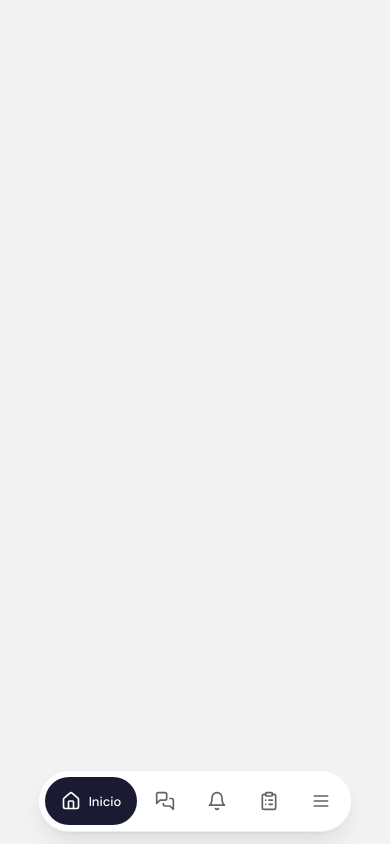
Test: MobileTabBar con preferencias de barra › los ocultos no ocupan tab (entra el siguiente por prioridad) pero siguen en Más
Expected: the link "Pedidos" is not shown
Expected: the link named "Notificaciones" is shown, [207,791,227,811]
Click the button named "Más opciones". click: [321, 801]
box: [297,777,345,825]
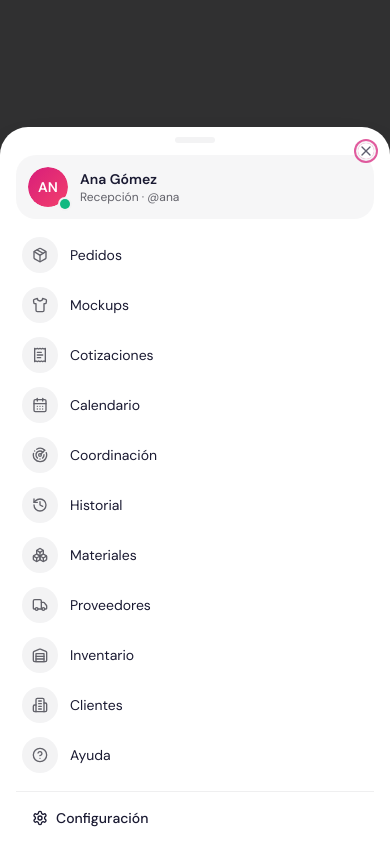
Expected: the link "Pedidos" is shown, [22,237,122,273]
